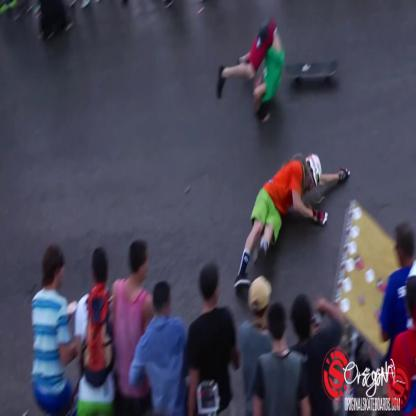Fall_Down: (234, 150, 352, 298)
